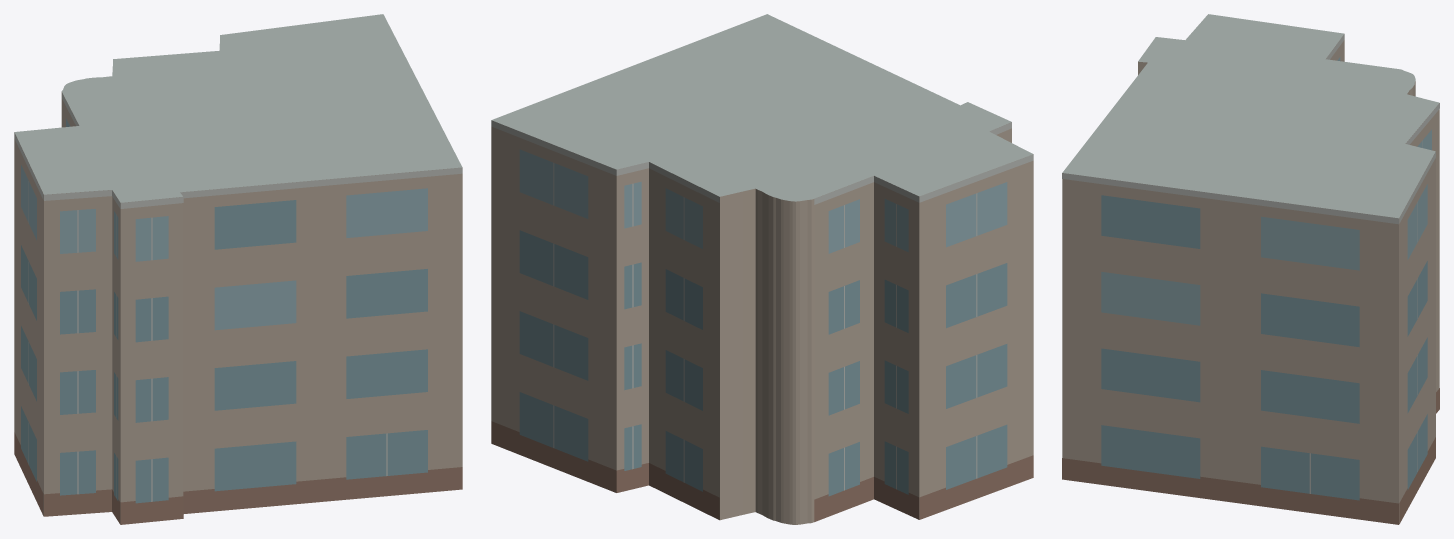
Rendered from survey-upis-32856164.glb.
3 views of the same model, side by side, from view 1: azimuth 30°, elevation 25°; view 2: azimuth 150°, elevation 25°; view 3: azimuth 270°, elevation 25° (orthographic). The views are drawn at different scales.
Visible parts, largest first — view 1: survey-upis-32856164.tmp; view 2: survey-upis-32856164.tmp; view 3: survey-upis-32856164.tmp.
Boxes of the visible parts, <box> form: survey-upis-32856164.tmp: <box>14,14,462,524</box>; survey-upis-32856164.tmp: <box>491,14,1033,524</box>; survey-upis-32856164.tmp: <box>1062,14,1439,524</box>.
Size of the model in its own units: 17.88 by 12.5 by 13.96.
